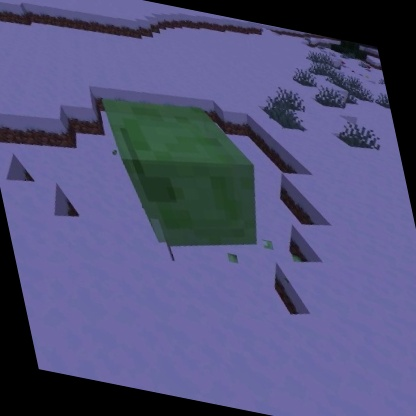slime: (94, 83, 280, 271)
